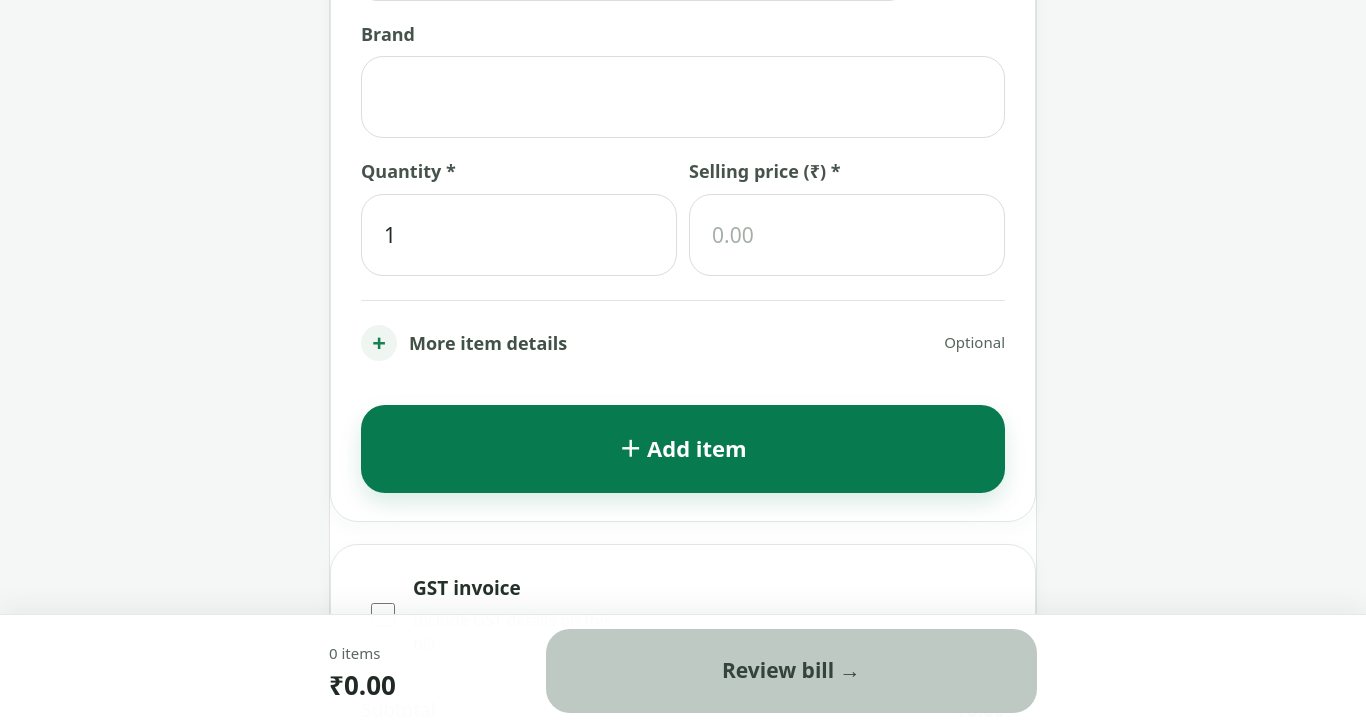
Test case: GenerateInvoice WhatsApp independence › keeps model and serial in optional details for non-electronics businesses
(page scrolled)
Click the heading "More item details Optional" at (488, 343), box [409, 331, 1005, 355]
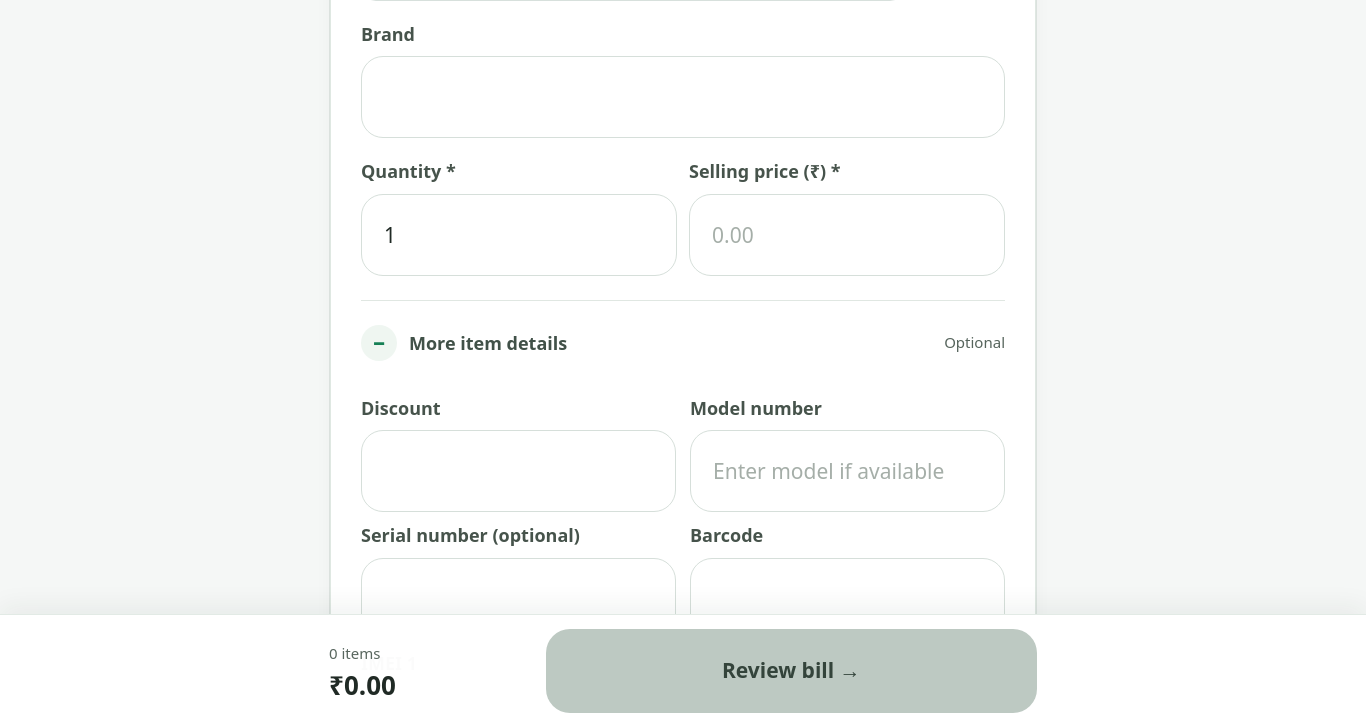
Check: the field labelled "Model number" is shown, box [690, 430, 1005, 512]
Check: the field labelled "Serial number (optional)" is shown, box [361, 558, 676, 640]
